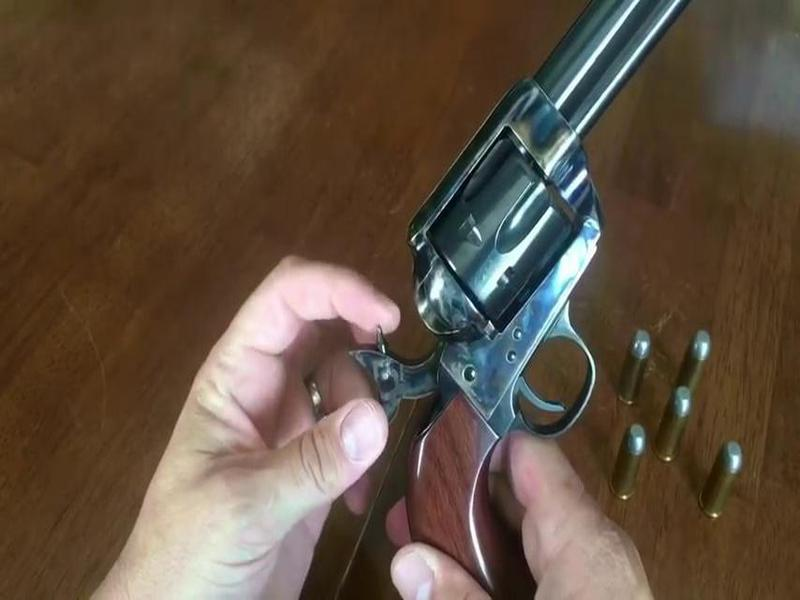Revolver: (364, 5, 683, 479)
